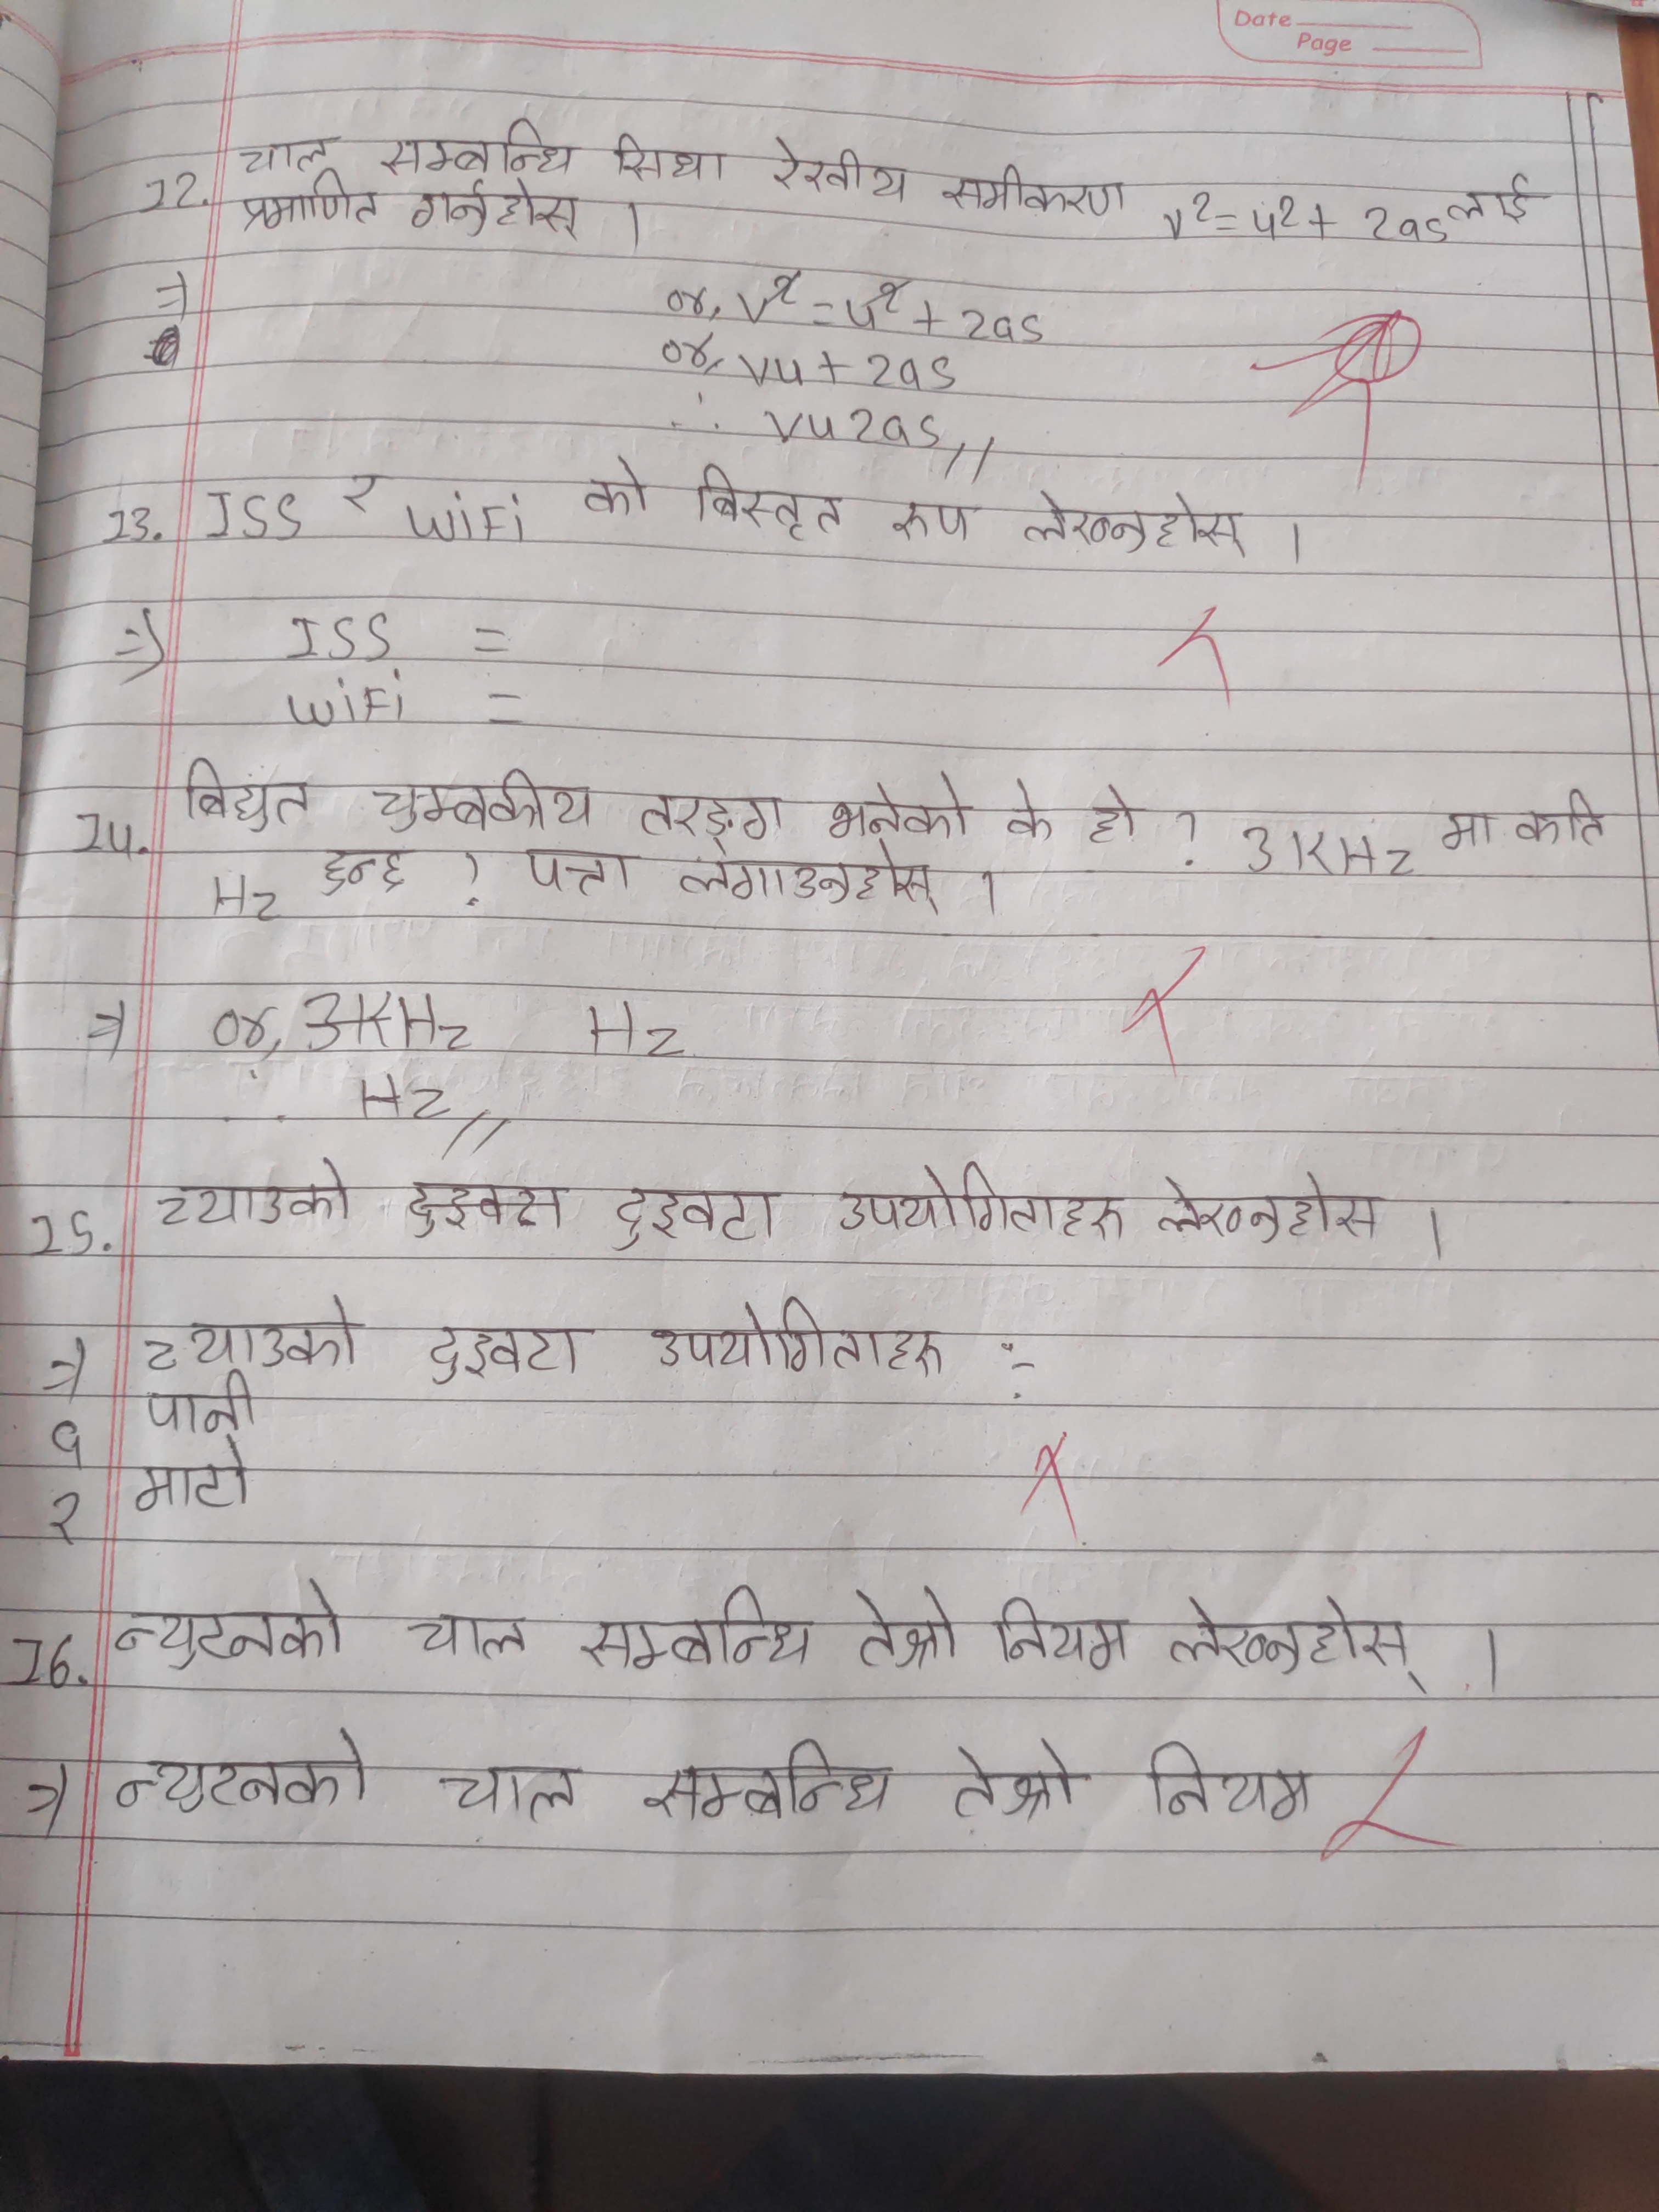text: (1166, 1592, 1429, 1696), (835, 1160, 1129, 1249), (650, 1294, 945, 1379), (113, 1721, 368, 1815), (112, 1571, 350, 1670), (575, 1580, 816, 1674), (638, 1738, 890, 1825), (139, 1289, 368, 1374), (674, 848, 945, 920), (1150, 1169, 1387, 1247), (1021, 486, 1248, 561), (369, 766, 603, 834), (1147, 1738, 1321, 1827), (606, 1179, 793, 1258), (152, 1158, 352, 1230), (380, 113, 579, 181), (945, 1733, 1091, 1820), (687, 465, 845, 542), (423, 1318, 594, 1386), (408, 178, 586, 240), (986, 1595, 1134, 1670), (941, 162, 1133, 219), (842, 1581, 958, 1676), (826, 770, 974, 843), (638, 780, 791, 850), (181, 756, 310, 833), (763, 138, 915, 202), (132, 1437, 254, 1512), (437, 1764, 587, 1825), (606, 125, 737, 188), (406, 1608, 535, 1669), (235, 178, 380, 232), (139, 1374, 254, 1437), (1513, 787, 1614, 853), (312, 836, 415, 900), (519, 840, 633, 895), (1445, 172, 1551, 230), (579, 451, 653, 519), (885, 491, 978, 545), (1084, 780, 1143, 848), (230, 134, 331, 172), (1431, 803, 1502, 853), (1004, 775, 1056, 841)
